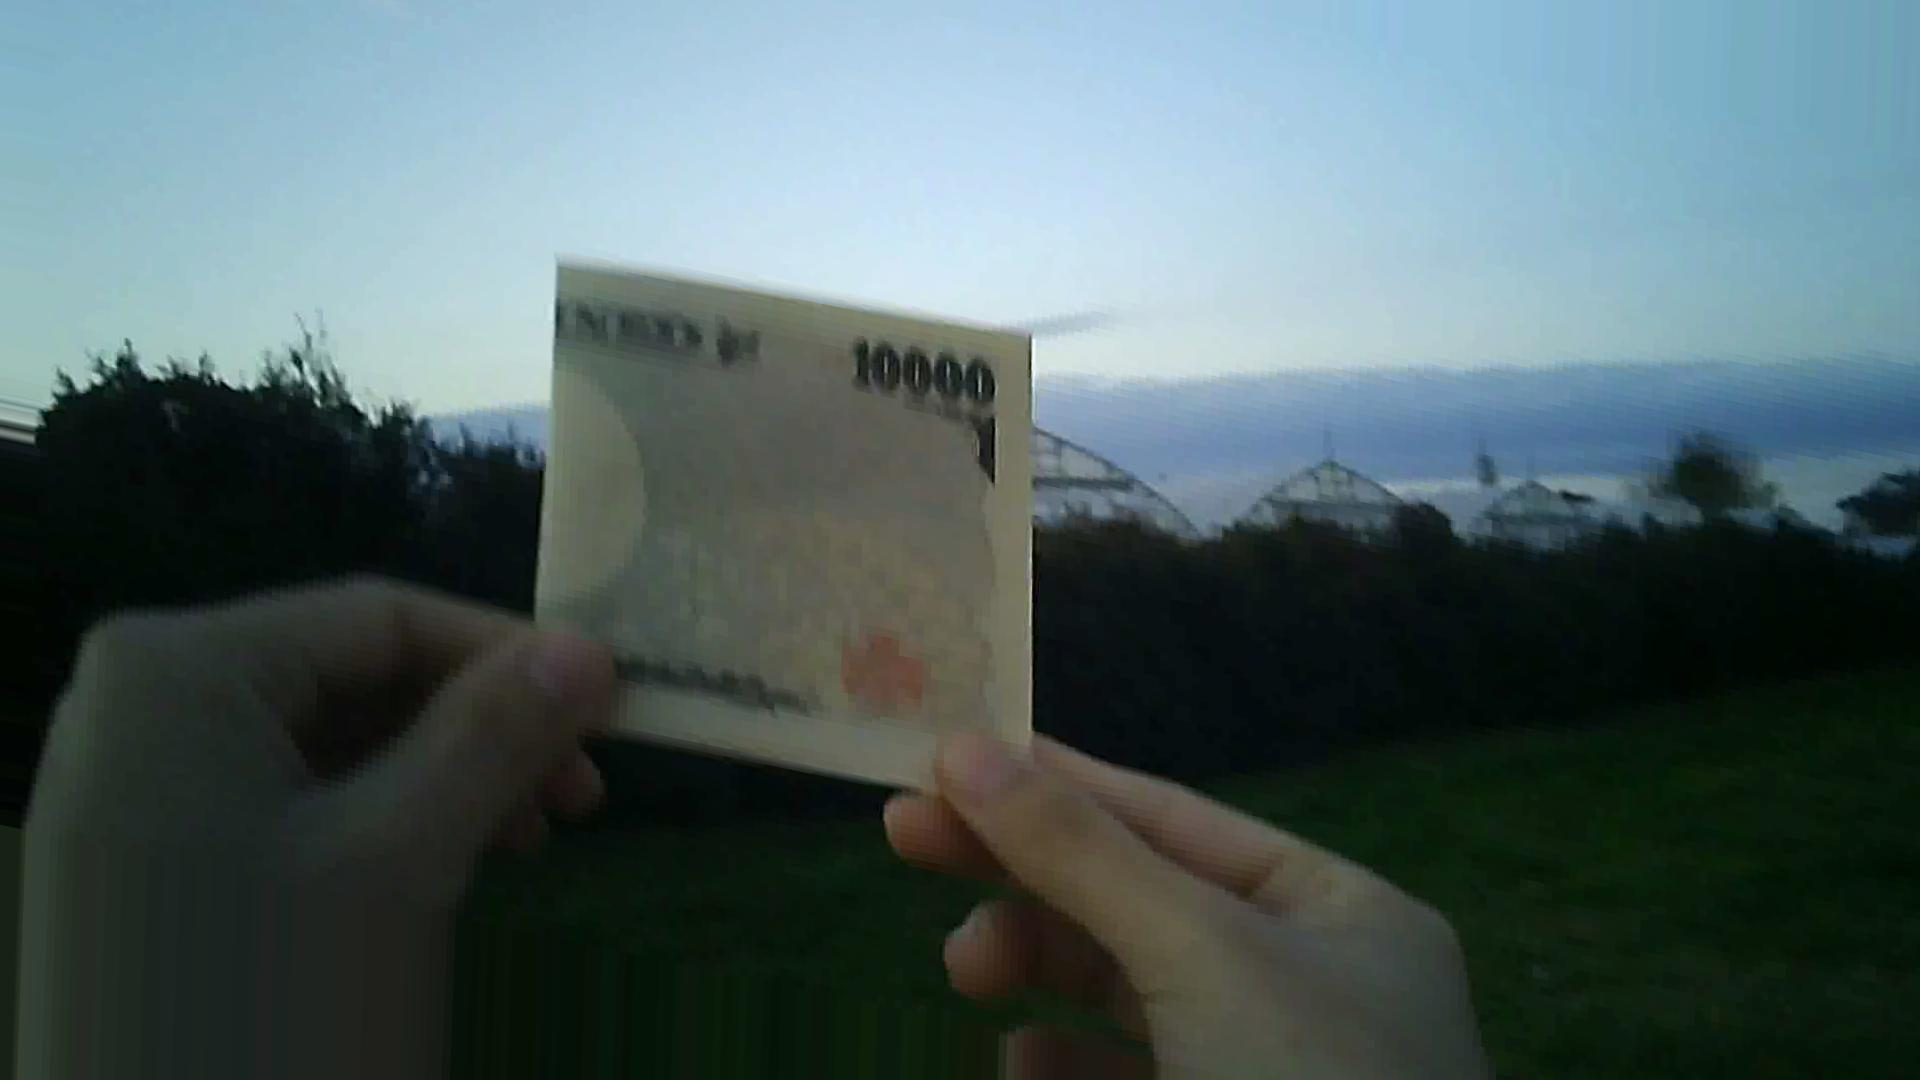10,000 Yen: (514, 224, 1069, 827)
